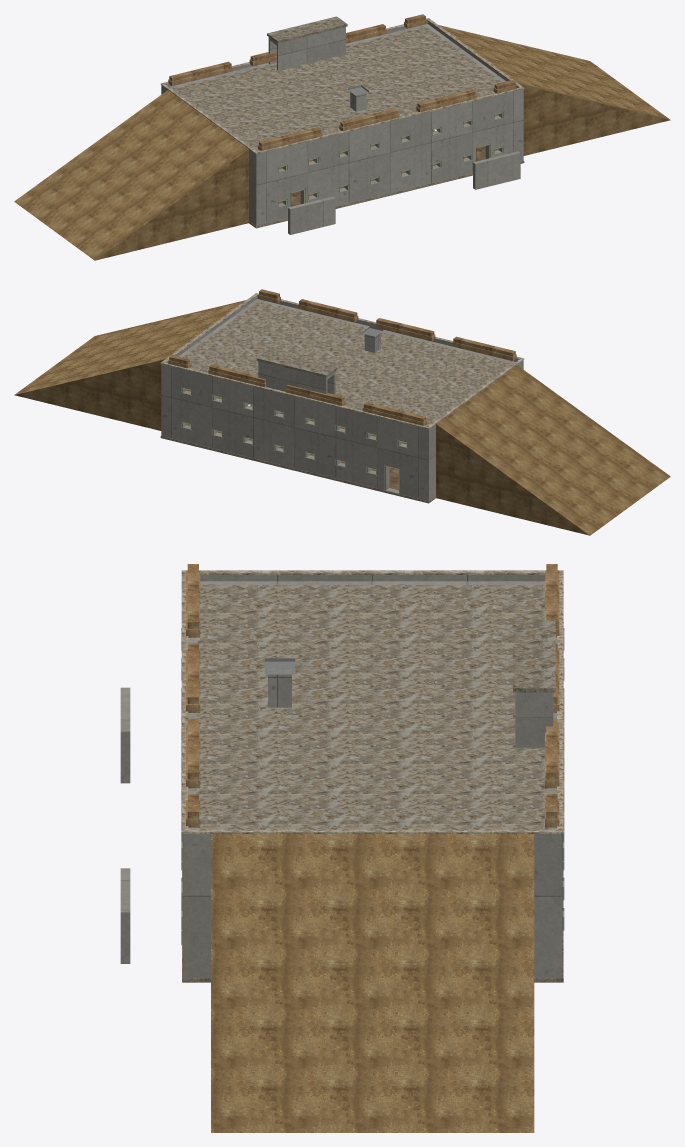
File: mb-command-bunker.zfix-v21.lod0.glb
3 renders of one model, top to bottom at view 1: azimuth 30°, elevation 25°; view 2: azimuth 150°, elevation 25°; view 3: azimuth 270°, elevation 25°, orthographic. The views are drawn at different scales.
Parts seen in each view (by area): view 1: mb-command-bunker; view 2: mb-command-bunker; view 3: mb-command-bunker.
Part boxes in pixels (x1,y1,x2,y2): mb-command-bunker: [14, 14, 670, 260]; mb-command-bunker: [14, 289, 670, 535]; mb-command-bunker: [120, 564, 564, 1132].
Size of the model in its own units: 56 by 9.42 by 18.66.
Materials: 4 (3 with a texture image).
